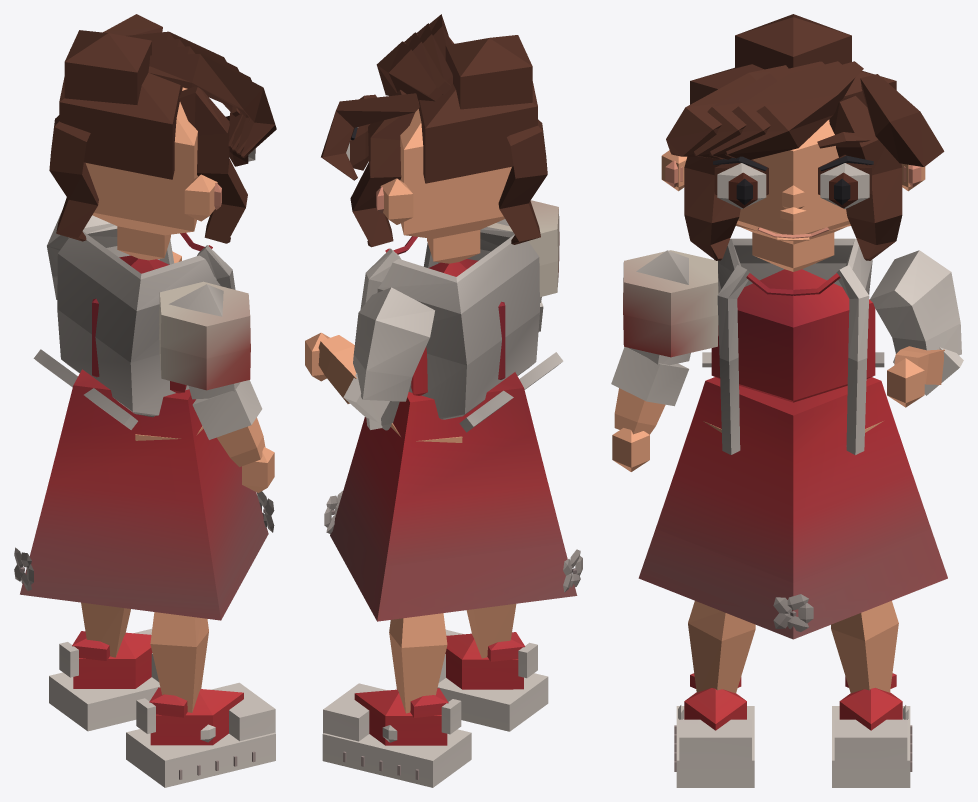
Rendered from npc.mia.aftermath.lod2.glb.
The picture shows the model from 3 angles, left to right: view 1: azimuth 30°, elevation 25°; view 2: azimuth 150°, elevation 25°; view 3: azimuth 270°, elevation 25°; orthographic projection.
Parts seen in each view (by area): view 1: hip, head, torso, footR, armR, footL, shinR, foreArmR, shinL, handR, armL; view 2: hip, head, torso, footL, footR, armL, shinL, foreArmL, armR, shinR, handL; view 3: hip, head, torso, armR, footL, footR, armL, shinL, shinR, foreArmR, foreArmL, handL (+1 smaller).
Part boxes in pixels (box(x1,y1,x2,y2)): hip: box(14, 369, 274, 620); head: box(49, 14, 276, 260); torso: box(33, 223, 235, 429); footR: box(126, 682, 275, 787); armR: box(159, 281, 250, 399); footL: box(49, 628, 160, 731); shinR: box(150, 612, 208, 712); foreArmR: box(192, 380, 265, 466); shinL: box(81, 602, 130, 657); handR: box(242, 447, 274, 492); armL: box(47, 211, 109, 299); hip: box(324, 372, 582, 621); head: box(321, 14, 547, 263); torso: box(360, 227, 563, 432); footL: box(322, 683, 471, 787); footR: box(437, 629, 548, 731); armL: box(353, 287, 434, 401); shinL: box(389, 613, 447, 713); foreArmL: box(318, 335, 389, 422); armR: box(487, 200, 559, 302); shinR: box(466, 604, 516, 658); handL: box(305, 332, 329, 381); hip: box(638, 377, 947, 639); head: box(661, 14, 944, 271); torso: box(702, 238, 884, 454); armR: box(623, 250, 718, 365); footL: box(832, 673, 912, 787); footR: box(674, 673, 754, 787); armL: box(870, 250, 961, 355); shinL: box(831, 601, 898, 693); shinR: box(688, 601, 755, 693); foreArmR: box(611, 347, 688, 434); foreArmL: box(893, 346, 963, 395); handL: box(887, 358, 924, 407).
Bounding box in the file's own units: 0.6589 × 1.8 × 0.803.
